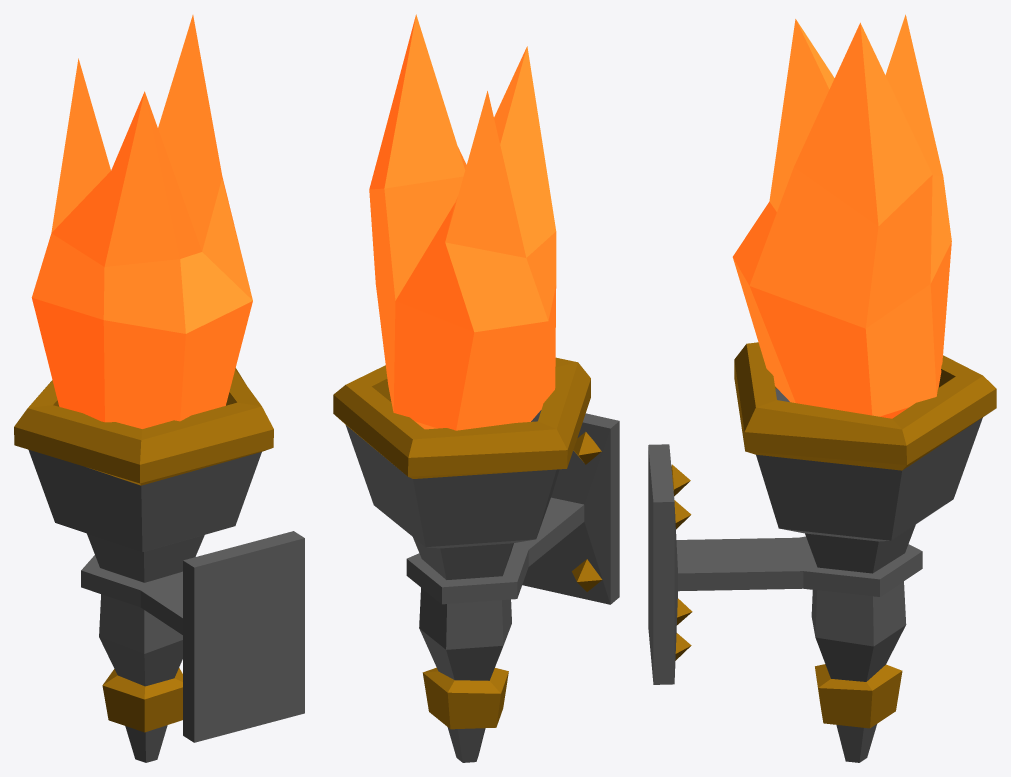
File: intro_prop(torch)_01.FBX
3 views of the same model, side by side, from view 1: azimuth 30°, elevation 25°; view 2: azimuth 150°, elevation 25°; view 3: azimuth 270°, elevation 25° (orthographic). The views are drawn at different scales.
Visible parts, largest first — view 1: torch; view 2: torch; view 3: torch.
Part boxes in pixels (x1,y1,x2,y2): torch: [14, 15, 304, 762]; torch: [333, 14, 619, 762]; torch: [648, 14, 996, 762].
Size of the model in its own units: 10.27 by 31.86 by 13.23.
